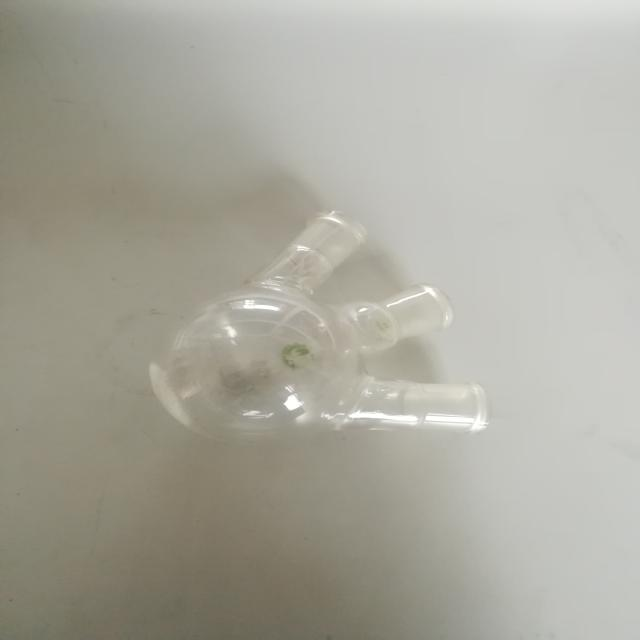Round_Bottom_Flask_Borosilicate_Glass_3_Neck: (119, 126, 514, 538)
